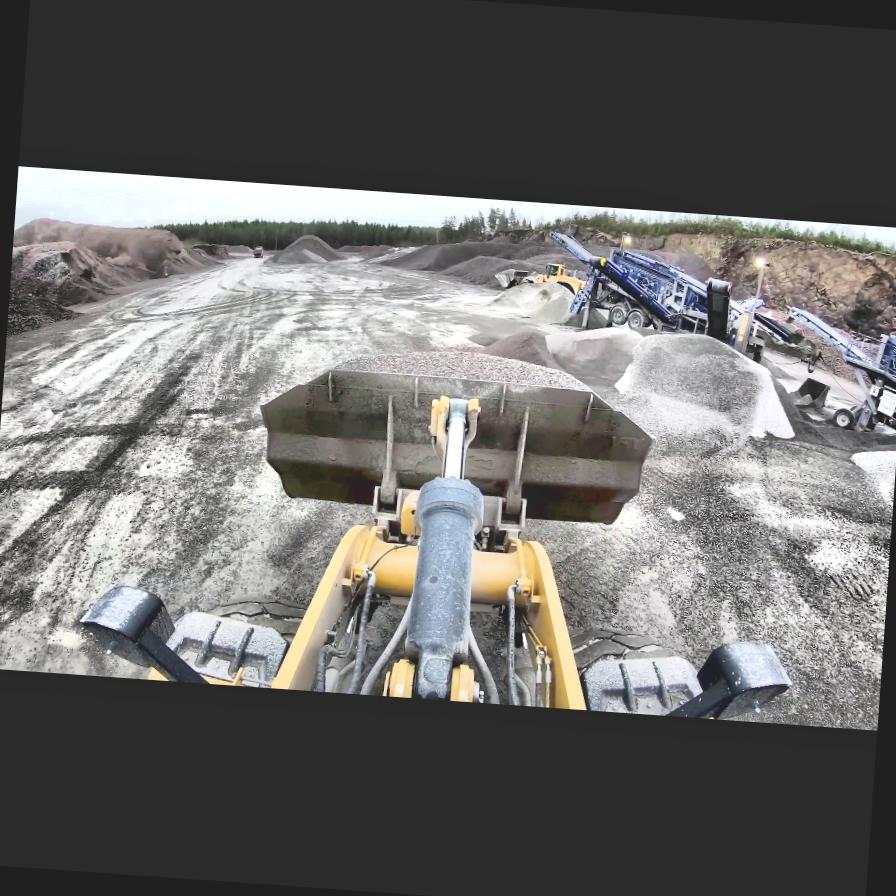anchor: (425, 394, 481, 475)
pile of gravel: (495, 308, 804, 442), (9, 213, 230, 324), (378, 231, 523, 280), (491, 272, 582, 326), (280, 232, 345, 264), (182, 244, 226, 267)
